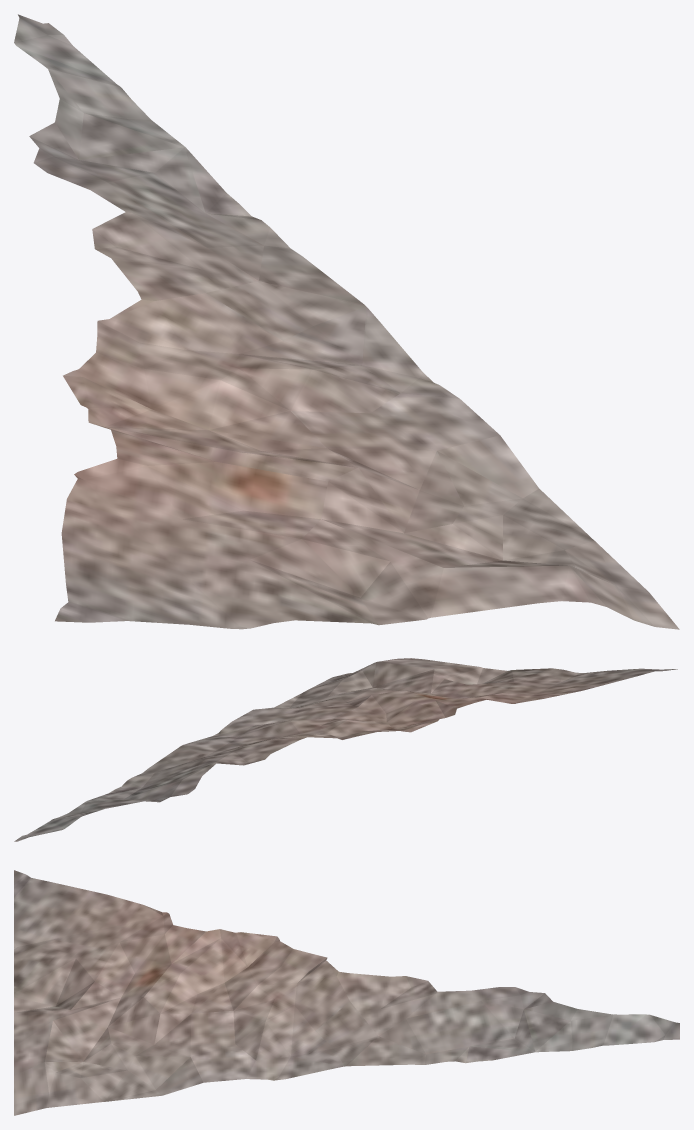
The picture shows the model from 3 angles, top to bottom: view 1: azimuth 30°, elevation 25°; view 2: azimuth 150°, elevation 25°; view 3: azimuth 270°, elevation 25°; orthographic projection. The views are drawn at different scales.
Bounding box in the file's own units: 0.4789 × 0.1178 × 0.8374.
1 material, 1 textured.
